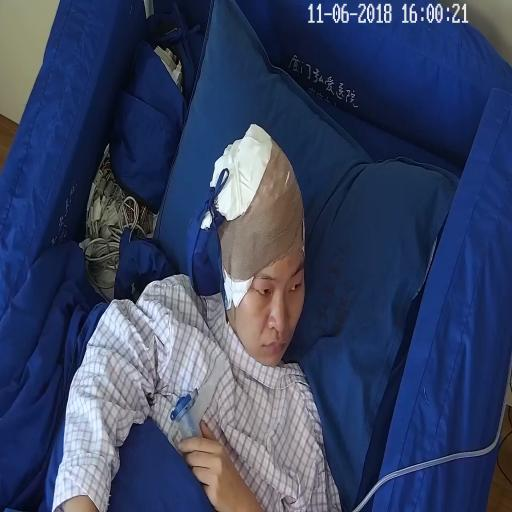Seizure: (210, 127, 316, 368)
